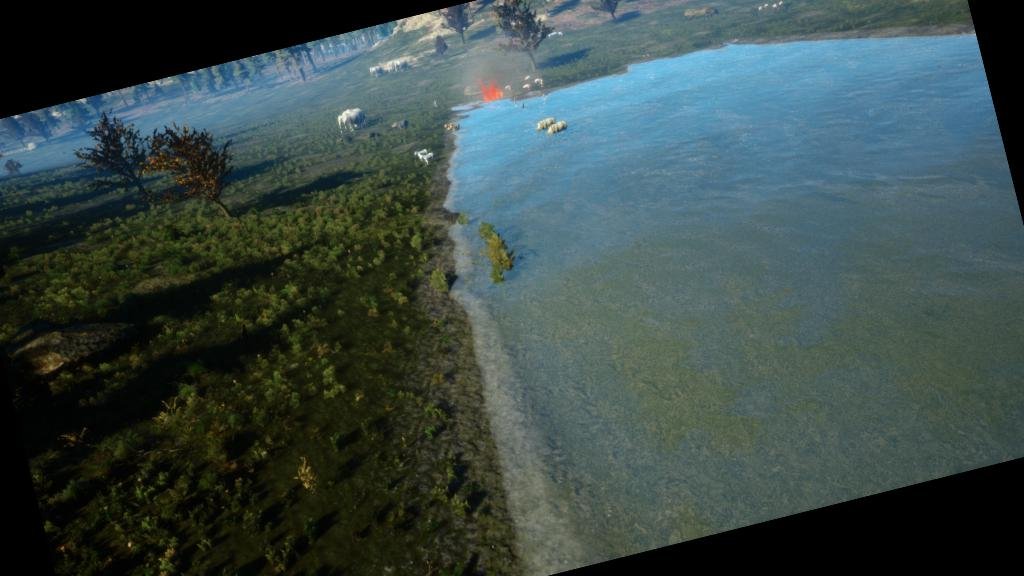Fire: (474, 72, 508, 106)
elephant: (332, 104, 371, 138)
hippopotamus: (389, 116, 412, 134)
human: (510, 95, 520, 109), (430, 98, 440, 110), (537, 77, 546, 88), (520, 100, 528, 111)
rhinoceros: (541, 118, 573, 142), (532, 115, 560, 136)
smoke: (456, 25, 538, 105)
zebra: (415, 149, 440, 170), (410, 145, 430, 160)
